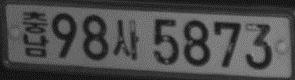3: (244, 22, 272, 69)
5: (152, 17, 178, 66)
7: (213, 20, 241, 67)
8: (81, 13, 109, 61), (182, 19, 210, 66)
9: (50, 12, 78, 58)
사: (112, 18, 140, 61)
충남_V: (22, 9, 48, 58)
